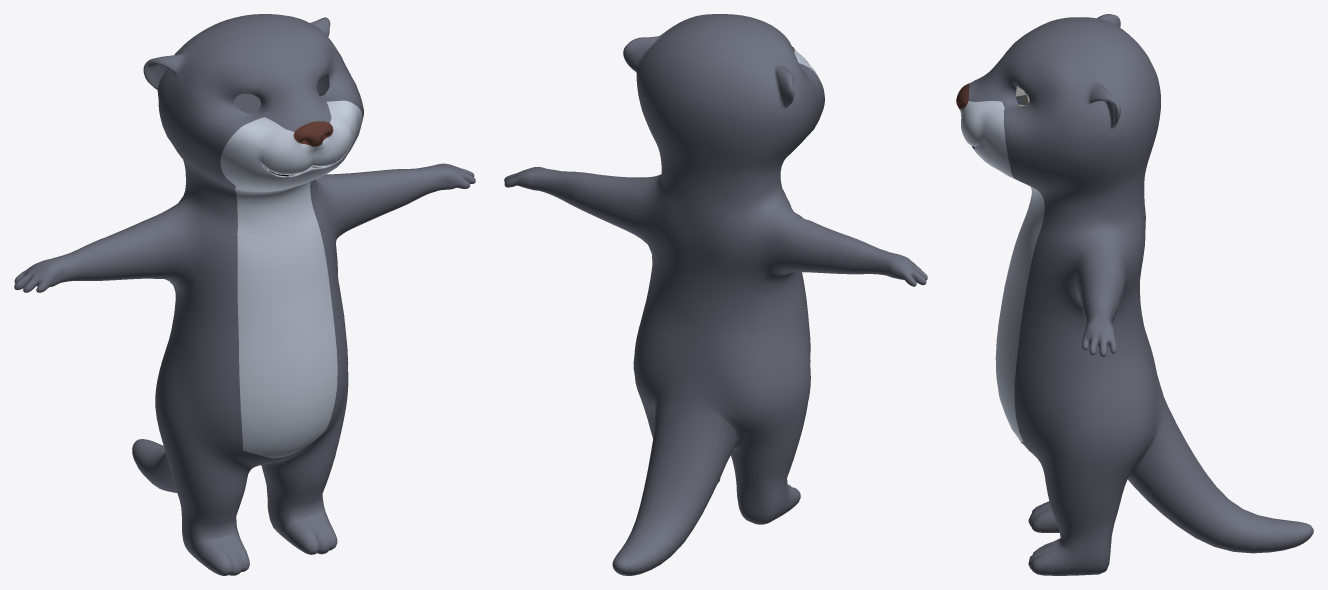
File: fur03.glb
3 views of the same model, side by side, from view 1: azimuth 30°, elevation 25°; view 2: azimuth 150°, elevation 25°; view 3: azimuth 270°, elevation 25° (orthographic). The views are drawn at different scales.
Visible parts, largest first — view 1: BuddyBlau_low; view 2: BuddyBlau_low; view 3: BuddyBlau_low.
Boxes of the visible parts, bbox=[...] form: BuddyBlau_low: bbox=[14, 14, 475, 575]; BuddyBlau_low: bbox=[504, 14, 927, 575]; BuddyBlau_low: bbox=[956, 14, 1313, 575].
Bounding box in the file's own units: 1.52 × 1.66 × 1.03.
6 materials, 1 textured.
